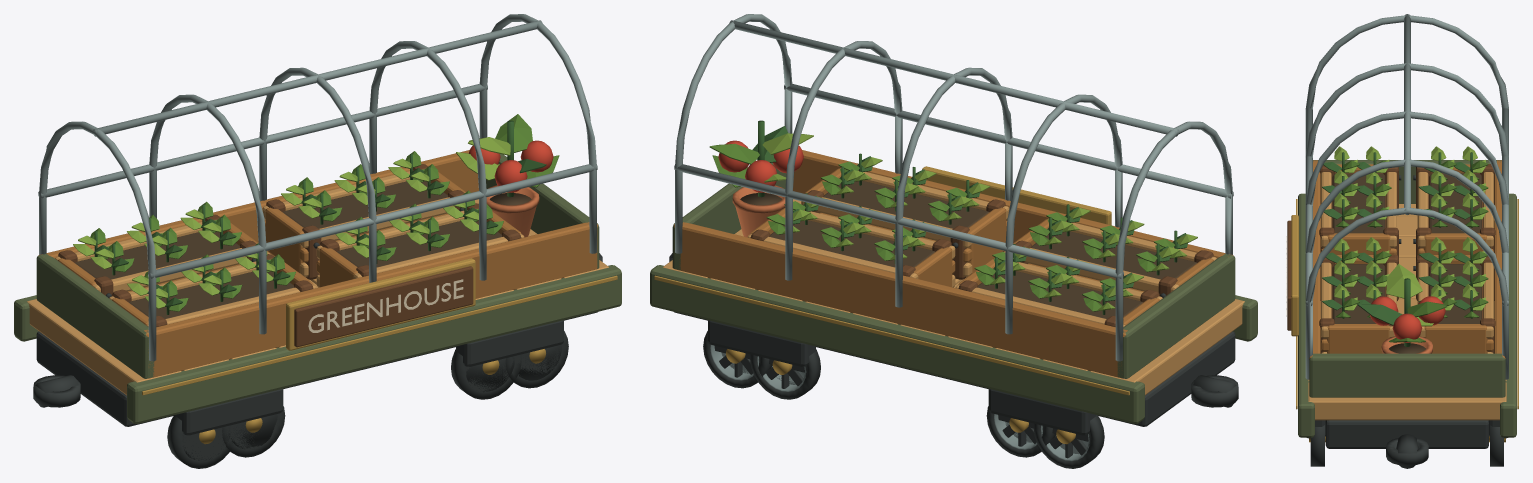
File: 02_greenhouse_carriage.glb
3 renders of one model, left to right at view 1: azimuth 30°, elevation 25°; view 2: azimuth 150°, elevation 25°; view 3: azimuth 270°, elevation 25°, orthographic. The views are drawn at different scales.
Parts seen in each view (by area): view 1: Olive side sill, Greenhouse sill, Wood nameplate, Greenhouse end sill, Greenhouse longitudinal rib, Greenhouse longitudinal rib.002, Greenhouse longitudinal rib.001, Greenhouse arch, Greenhouse sill.001, Floorboard, Underframe, Greenhouse arch.003 (+30 smaller); view 2: Greenhouse sill.001, Olive side sill.001, Greenhouse end sill, Greenhouse longitudinal rib.001, Greenhouse longitudinal rib.002, Greenhouse longitudinal rib, Greenhouse sill, Greenhouse arch, Floorboard, Underframe, Greenhouse arch.002, Greenhouse arch.003 (+29 smaller); view 3: Greenhouse end sill.001, Floorboard.009, Underframe, Greenhouse arch.004, Olive side sill.001, Olive side sill, Greenhouse arch, Greenhouse arch.001, Greenhouse arch.002, Greenhouse arch.003, End plank.005, End plank.007 (+37 smaller).
Part boxes in pixels (x1=…): Olive side sill: x1=127, y1=265, x2=621, y2=423; Greenhouse sill: x1=144, y1=222, x2=597, y2=378; Wood nameplate: x1=294, y1=266, x2=473, y2=347; Greenhouse end sill: x1=36, y1=253, x2=154, y2=378; Greenhouse longitudinal rib: x1=148, y1=164, x2=597, y2=278; Greenhouse longitudinal rib.002: x1=93, y1=20, x2=542, y2=136; Greenhouse longitudinal rib.001: x1=38, y1=83, x2=487, y2=198; Greenhouse arch: x1=39, y1=121, x2=156, y2=361; Greenhouse sill.001: x1=38, y1=150, x2=478, y2=258; Floorboard: x1=27, y1=299, x2=181, y2=395; Underframe: x1=36, y1=312, x2=597, y2=426; Greenhouse arch.003: x1=369, y1=41, x2=486, y2=280; Greenhouse sill.001: x1=674, y1=222, x2=1127, y2=378; Olive side sill.001: x1=650, y1=265, x2=1144, y2=423; Greenhouse end sill: x1=1117, y1=253, x2=1235, y2=378; Greenhouse longitudinal rib.001: x1=674, y1=164, x2=1123, y2=278; Greenhouse longitudinal rib.002: x1=729, y1=20, x2=1178, y2=136; Greenhouse longitudinal rib: x1=784, y1=83, x2=1233, y2=198; Greenhouse sill: x1=793, y1=150, x2=1233, y2=258; Greenhouse arch: x1=1115, y1=121, x2=1232, y2=361; Floorboard: x1=1090, y1=299, x2=1244, y2=395; Underframe: x1=674, y1=312, x2=1235, y2=426; Greenhouse arch.002: x1=895, y1=67, x2=1012, y2=307; Greenhouse arch.003: x1=785, y1=41, x2=902, y2=280; Greenhouse end sill.001: x1=1309, y1=353, x2=1505, y2=397; Floorboard.009: x1=1308, y1=382, x2=1506, y2=420; Underframe: x1=1325, y1=420, x2=1488, y2=448; Greenhouse arch.004: x1=1305, y1=207, x2=1508, y2=379; Olive side sill.001: x1=1500, y1=193, x2=1516, y2=437; Olive side sill: x1=1298, y1=193, x2=1314, y2=437; Greenhouse arch: x1=1305, y1=15, x2=1508, y2=109; Greenhouse arch.001: x1=1305, y1=63, x2=1508, y2=157; Greenhouse arch.002: x1=1305, y1=111, x2=1508, y2=205; Greenhouse arch.003: x1=1305, y1=159, x2=1508, y2=253; End plank.005: x1=1327, y1=324, x2=1390, y2=353; End plank.007: x1=1424, y1=324, x2=1487, y2=353.
Bounding box in the file's own units: 4.09 × 2.18 × 1.64.
